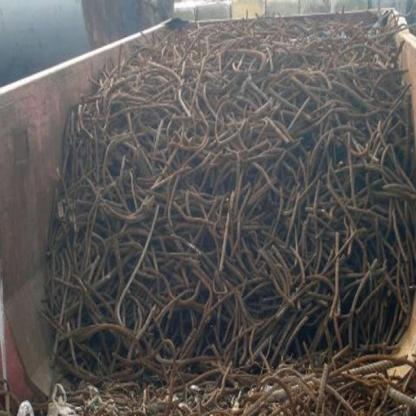rebar: (42, 10, 416, 401), (64, 361, 416, 415)
